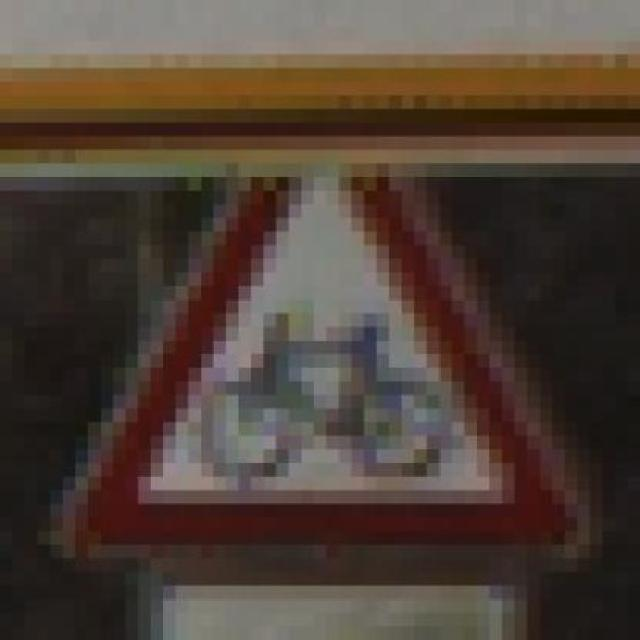CYCLE ROUTE AHEAD WARNING: (24, 177, 616, 572)
